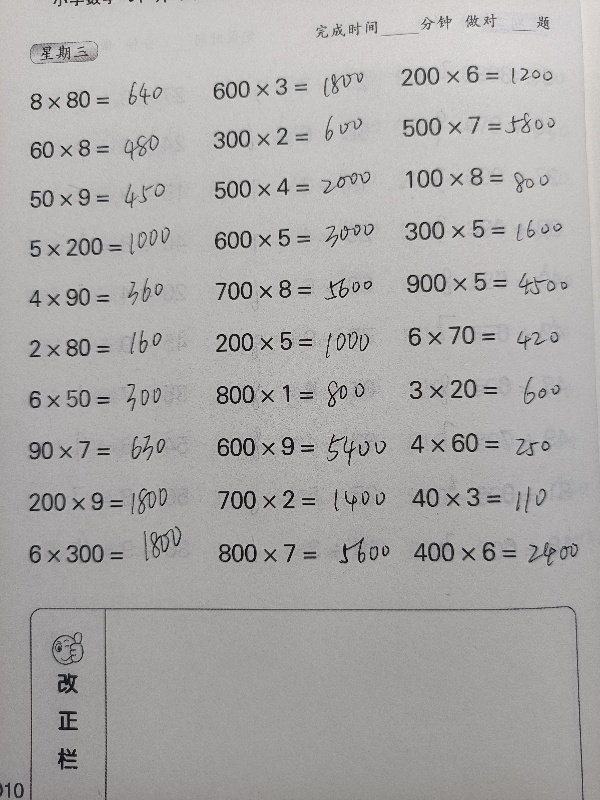equation: (387, 54, 569, 99), (20, 482, 200, 524), (22, 225, 202, 265), (397, 159, 577, 198), (396, 211, 576, 249), (397, 264, 577, 301), (394, 106, 574, 143), (405, 534, 585, 569), (404, 480, 584, 515), (401, 425, 581, 460), (400, 371, 580, 406), (399, 317, 579, 352), (21, 537, 201, 571), (210, 536, 390, 570), (209, 482, 389, 516), (19, 433, 199, 467), (208, 429, 388, 463), (21, 382, 201, 416), (207, 376, 387, 410), (22, 331, 202, 365), (207, 324, 387, 358), (20, 280, 200, 314), (207, 272, 387, 306), (205, 221, 385, 255), (21, 180, 201, 214), (206, 171, 386, 205), (204, 120, 384, 154), (204, 71, 384, 105), (21, 132, 201, 165), (21, 83, 201, 116)
